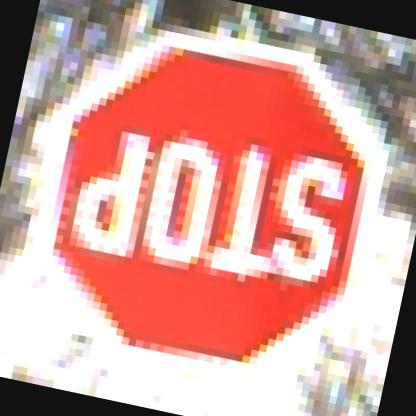stop: (10, 4, 404, 409)
